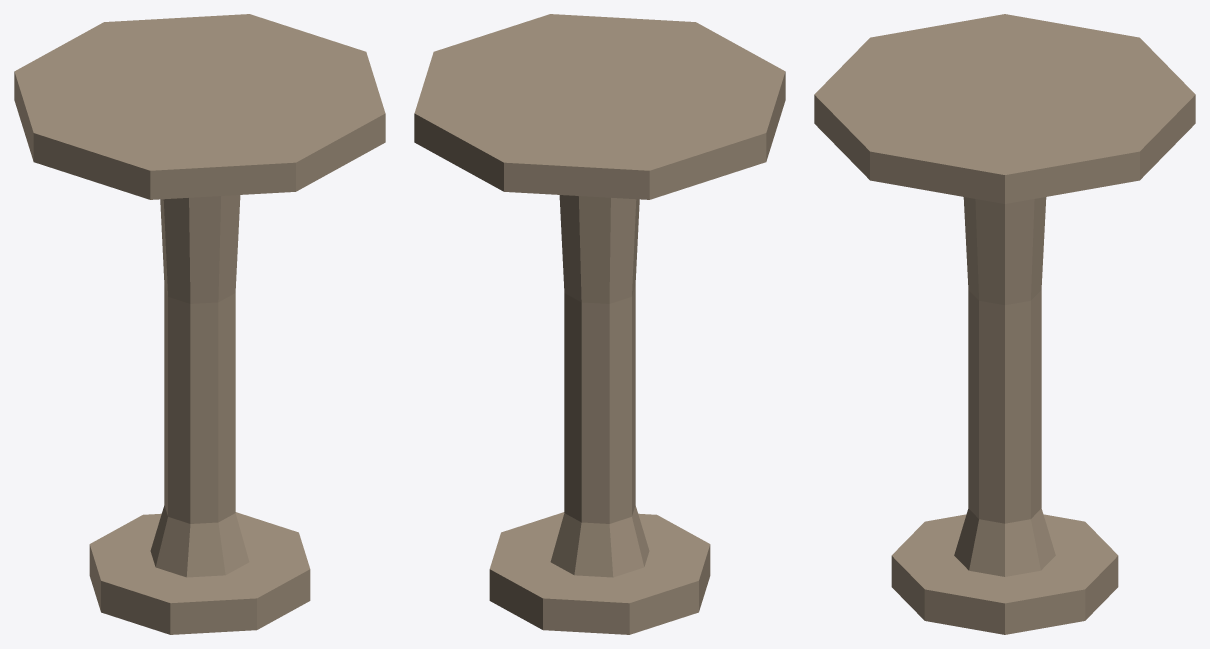
Rendered from Stool.001.fbx.
3 views of the same model, side by side, from view 1: azimuth 30°, elevation 25°; view 2: azimuth 150°, elevation 25°; view 3: azimuth 270°, elevation 25° (orthographic).
Visible parts, largest first — view 1: Stool.001; view 2: Stool.001; view 3: Stool.001.
Boxes of the visible parts, x1,y1,x2,y2 form: Stool.001: [14, 14, 385, 634]; Stool.001: [414, 14, 785, 634]; Stool.001: [814, 14, 1195, 634].
Size of the model in its own units: 60.11 by 85.64 by 60.11.
